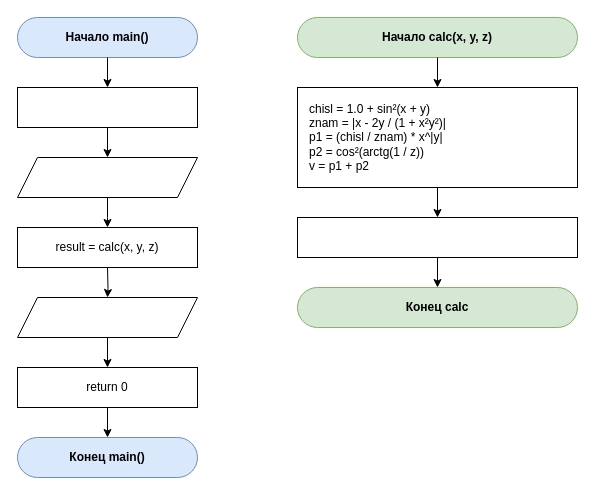
This 595x495 diagram has some shape labels left out. The shapes that lost their labels are listed below. From the top down, each one's centre as x and y in pixels, then its label:
(107,107): setlocale(LC_ALL, "RUS")
(107,177): Ввод: x, y, z
(437,237): return v
(107,317): Вывод: result
